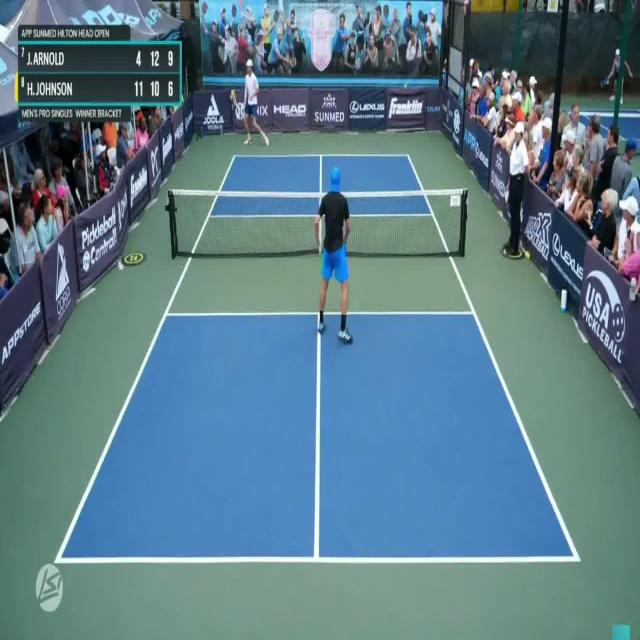Court: (52, 154, 581, 562)
